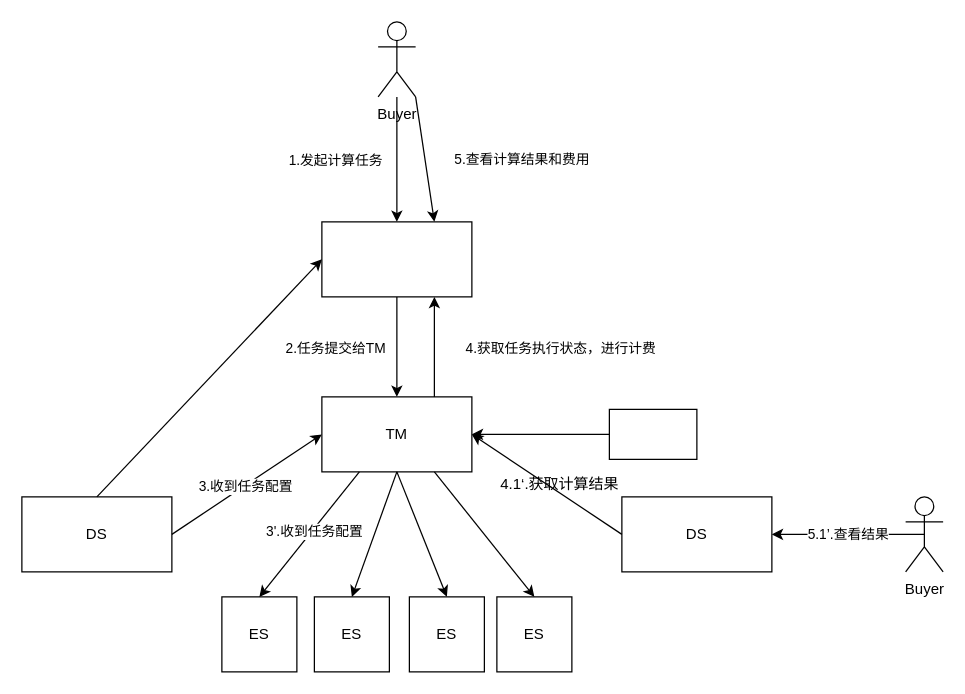
Image size: 965x694. Some labels were removed from this diagram. Each missing label, with the box of its shape:
console: (608, 408, 697, 459)
Datamarket: (321, 221, 472, 297)
